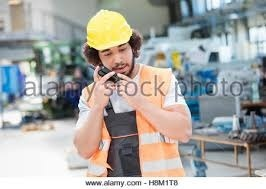helmet: (83, 4, 138, 54)
person with partial safety: (68, 5, 199, 176)
